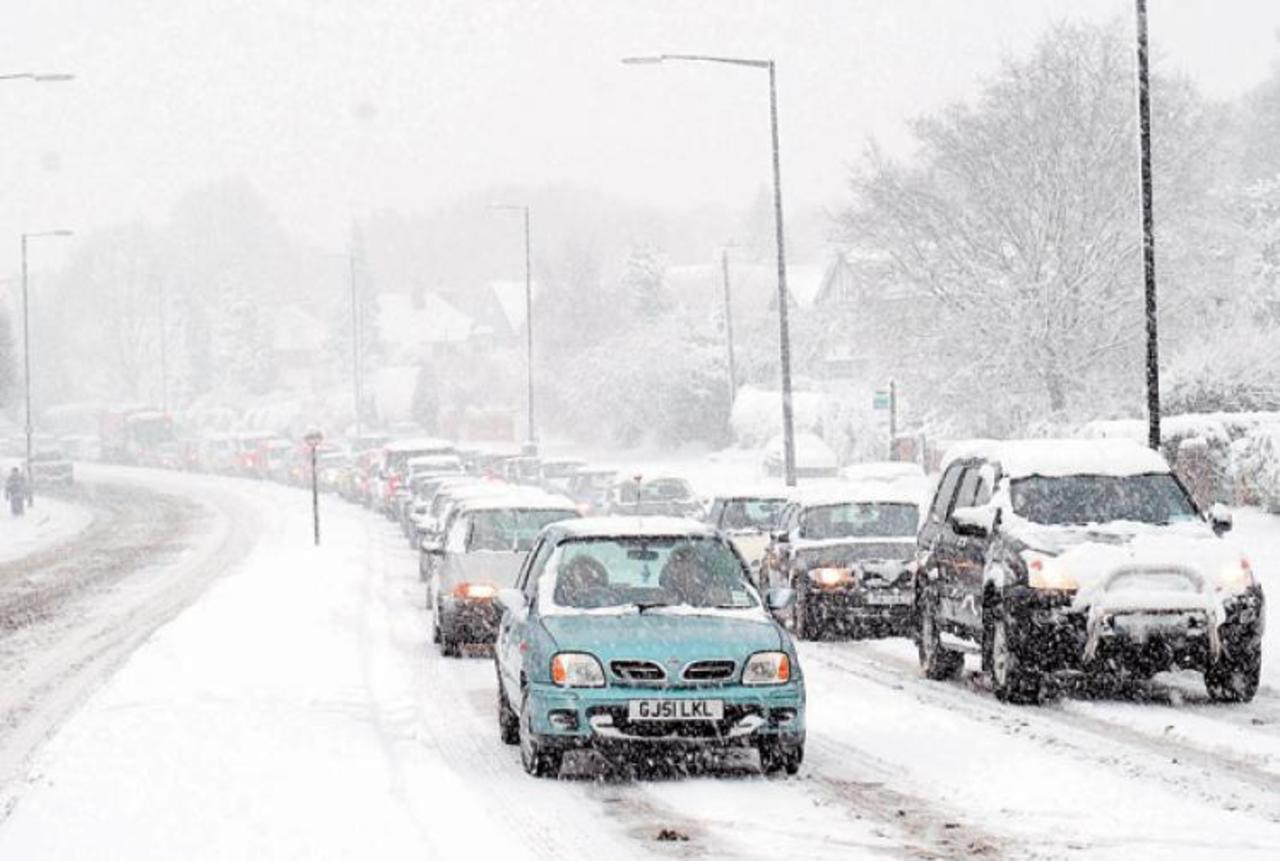car: (490, 515, 812, 786), (936, 443, 1219, 692), (427, 492, 578, 655), (779, 479, 929, 640), (700, 489, 803, 590), (608, 467, 708, 519), (416, 481, 448, 583), (24, 442, 76, 494), (566, 466, 625, 508), (200, 436, 233, 469), (317, 448, 343, 489), (260, 439, 286, 477), (153, 437, 183, 469), (236, 433, 261, 470)
person: (5, 463, 28, 515)
truck: (101, 404, 167, 464)
